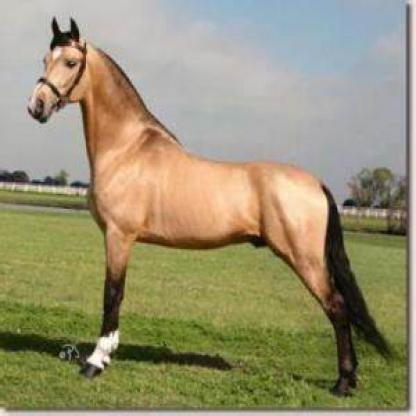horse: (26, 17, 395, 398)
